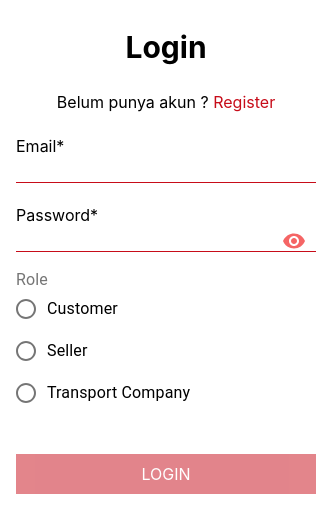
Test case: error password 2
The width and height of the screenshot is (333, 531).
Check: the heading "Login" is shown, box [125, 28, 206, 64]
In the password field with test id "password": (166, 239) [16, 226, 316, 252], type "qwe"
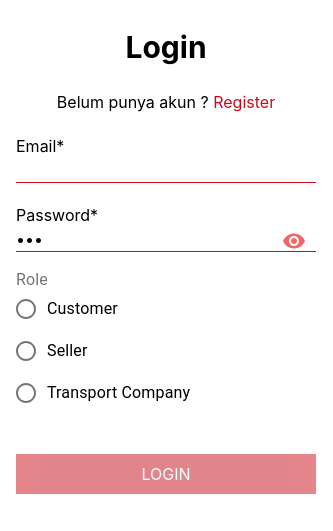
Leave the password field with test id "password", box [16, 226, 316, 252]
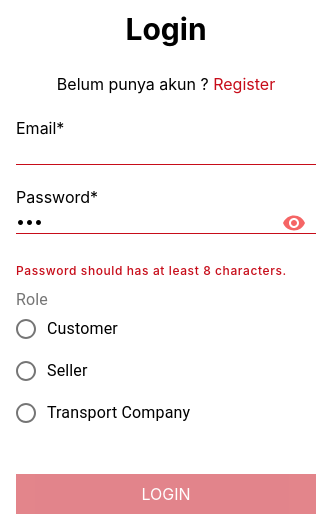
Check: the text "Password should has at least 8 characters." is shown, box [16, 262, 316, 280]
